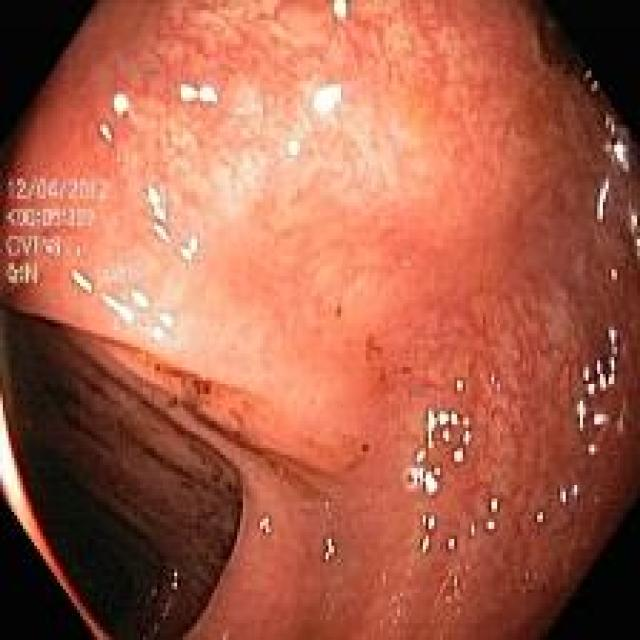ulcerative-colitis-grade-1: (1, 0, 639, 636)
